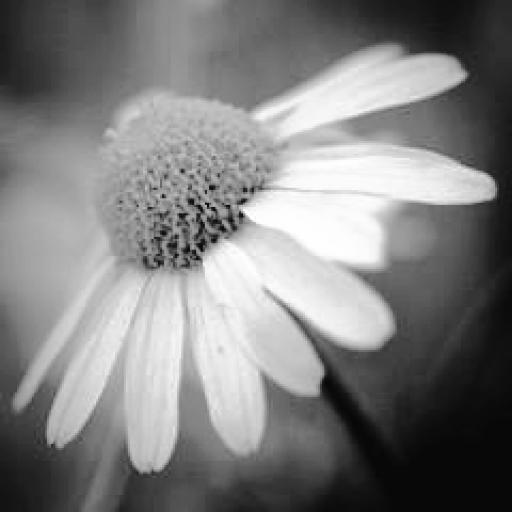daisy: (36, 51, 478, 457)
